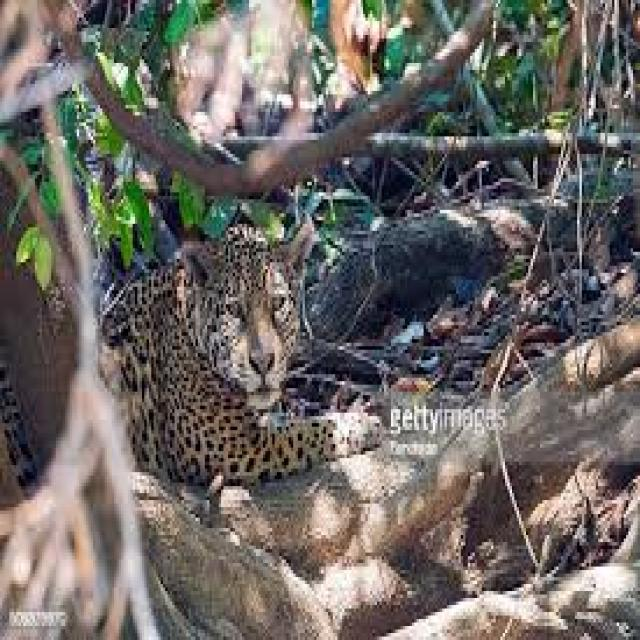Jaguar: (72, 241, 393, 476)
